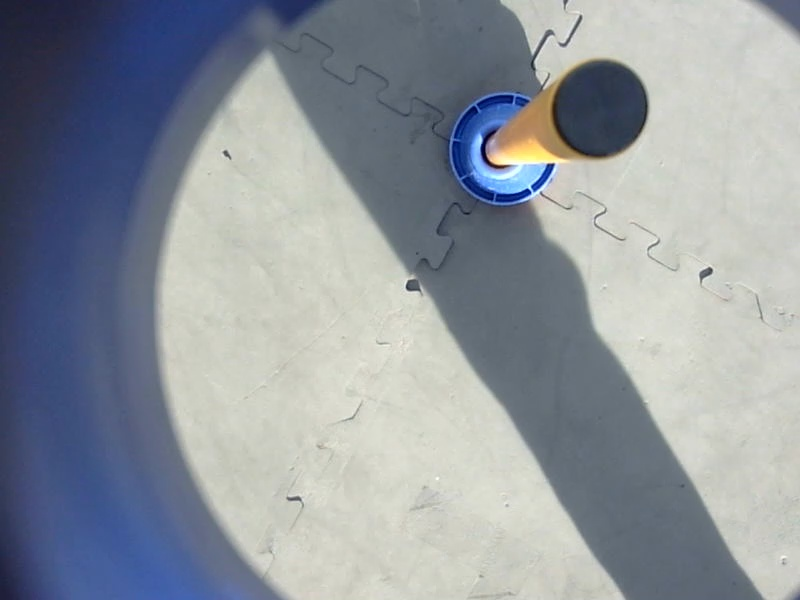tip: (545, 55, 658, 168)
